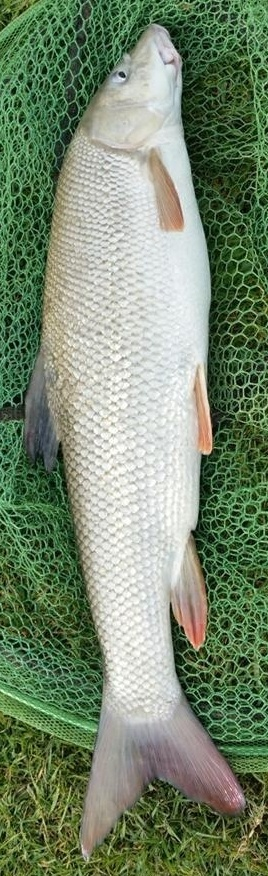Barbus barbus: (20, 20, 248, 856)
